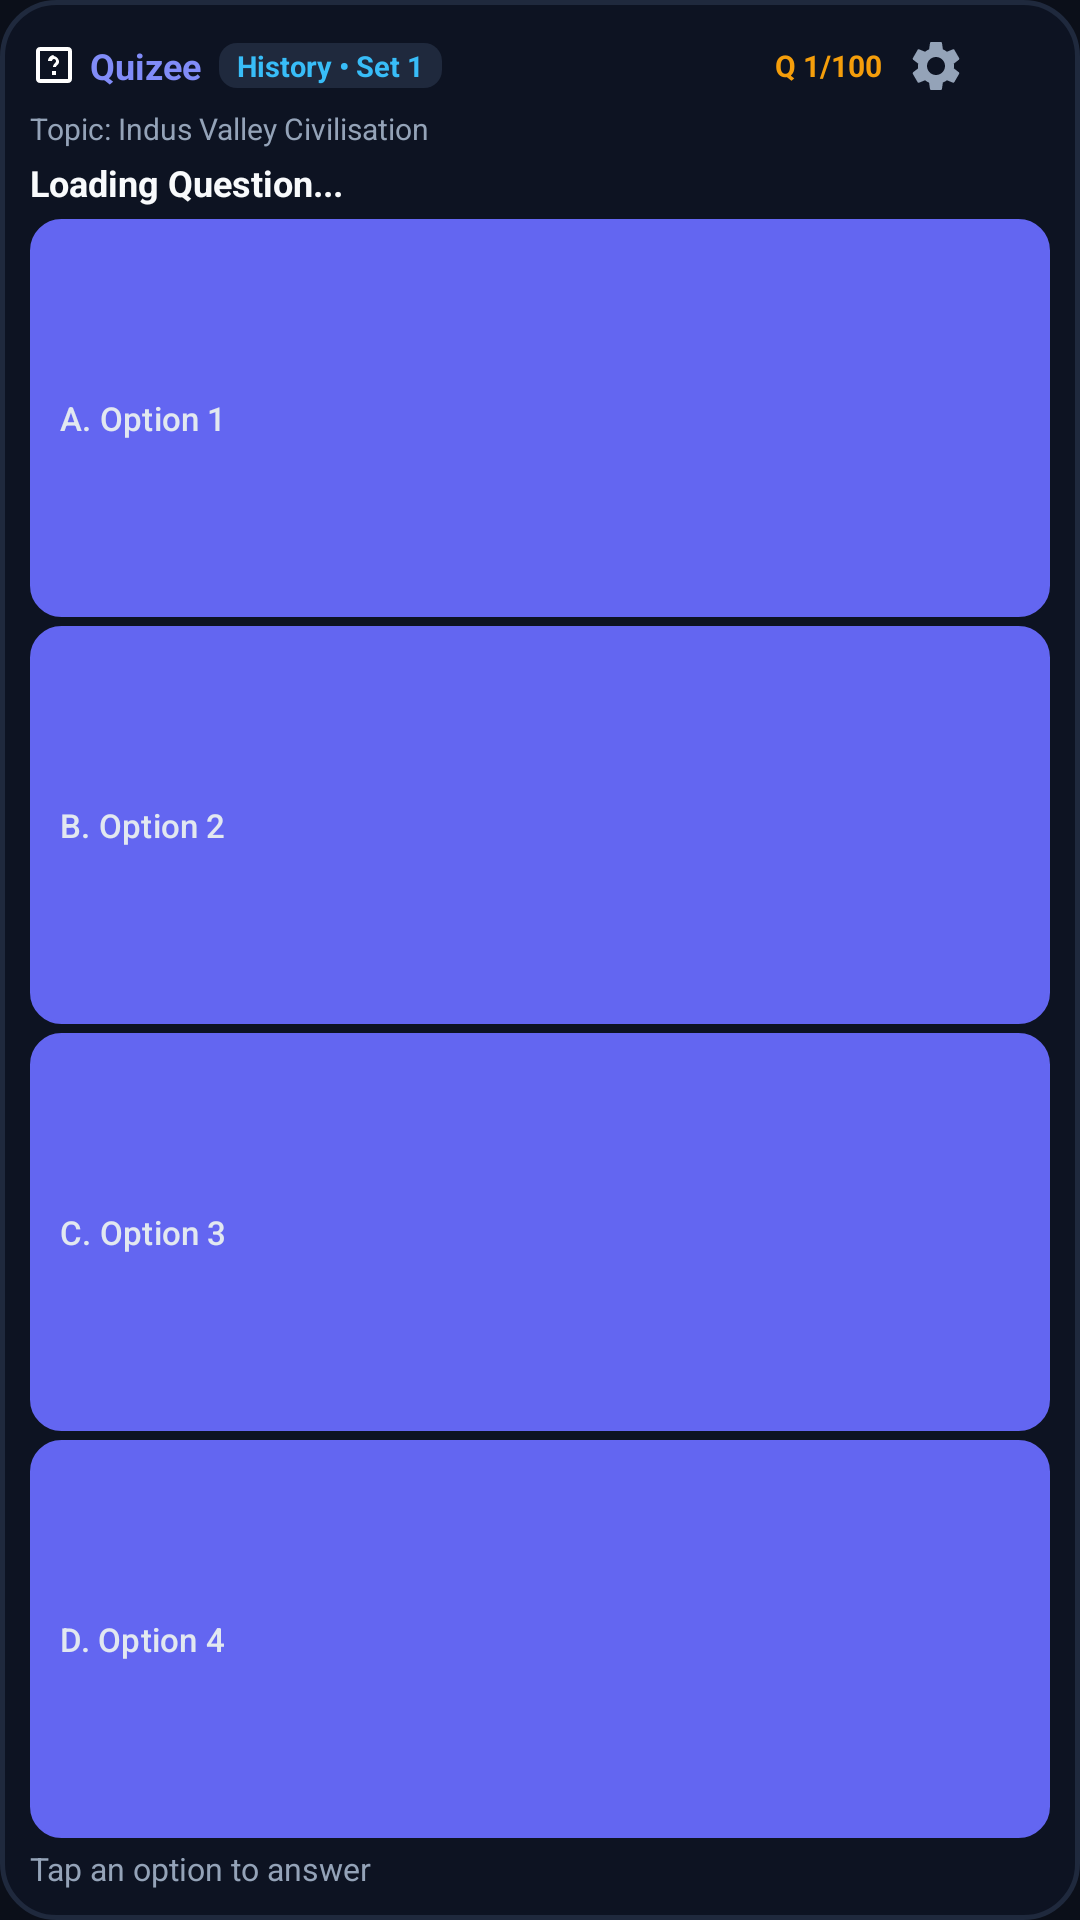

Icon bounding boxes for this 1080x1920 phone screenshot, format (x1, y1, x2, y2):
Change Topic or Set: (912, 42, 960, 90)
